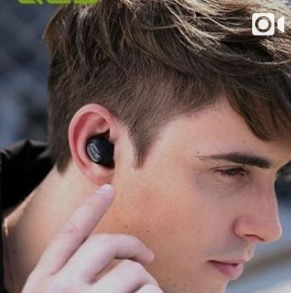earphone: (68, 103, 119, 184)
